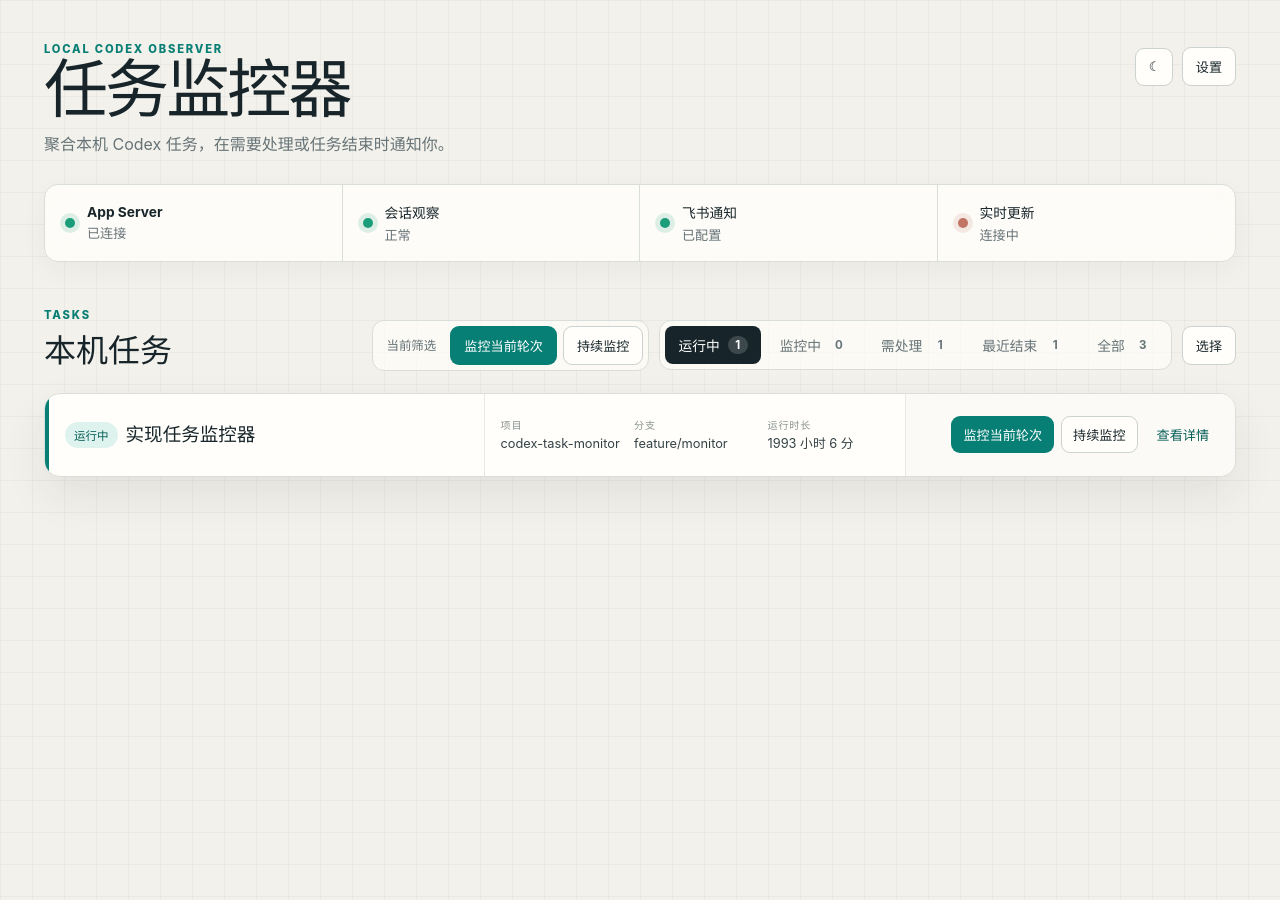
it: 任务监控主页面 › 详情展示任务安全摘要
The width and height of the screenshot is (1280, 900).
Click the button "查看详情": (1183,435) [1144,416,1221,453]
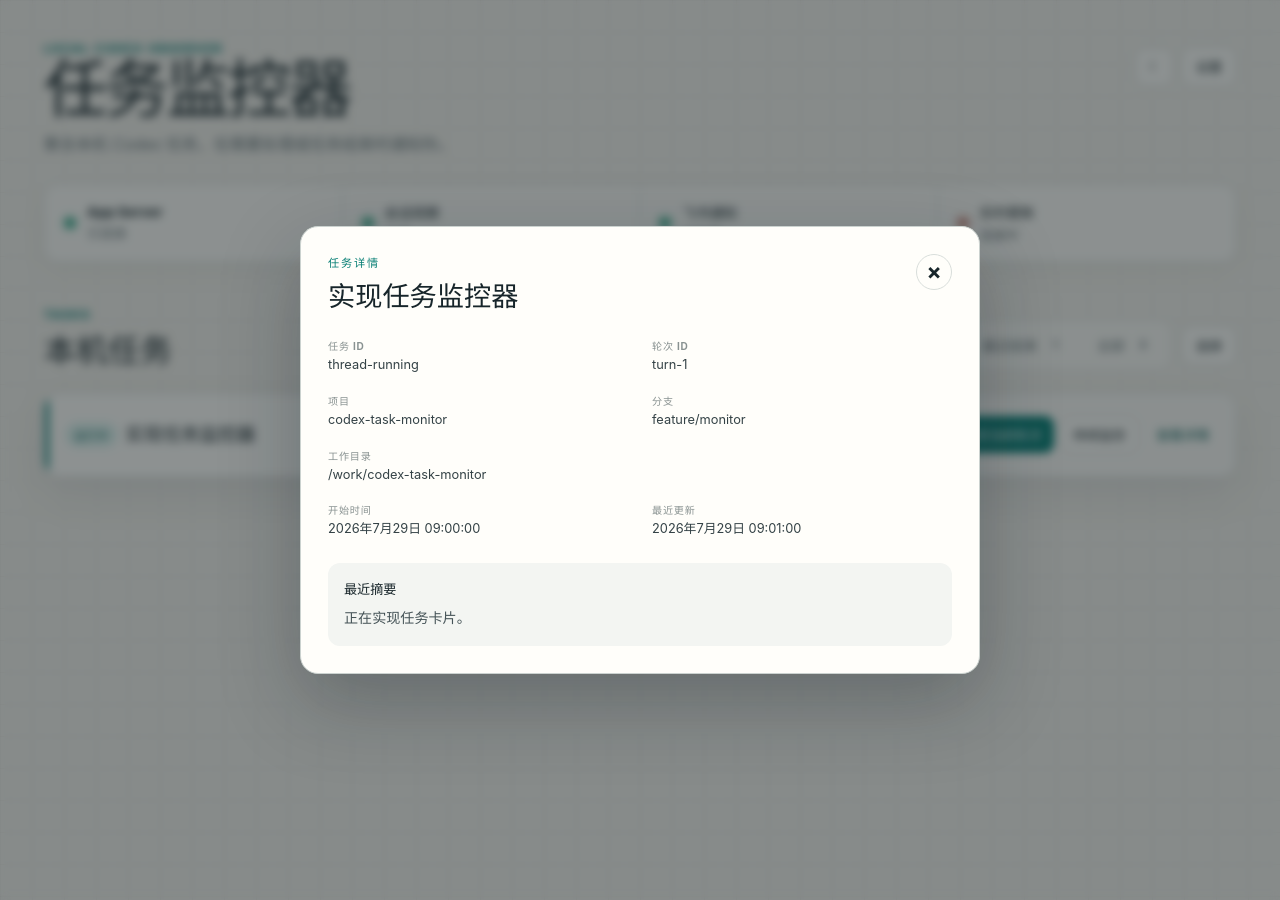
Result: the dialog shows "正在实现任务卡片。" at [344,609,471,626]
Result: the dialog shows "/work/codex-task-monitor" at [328,466,486,482]
